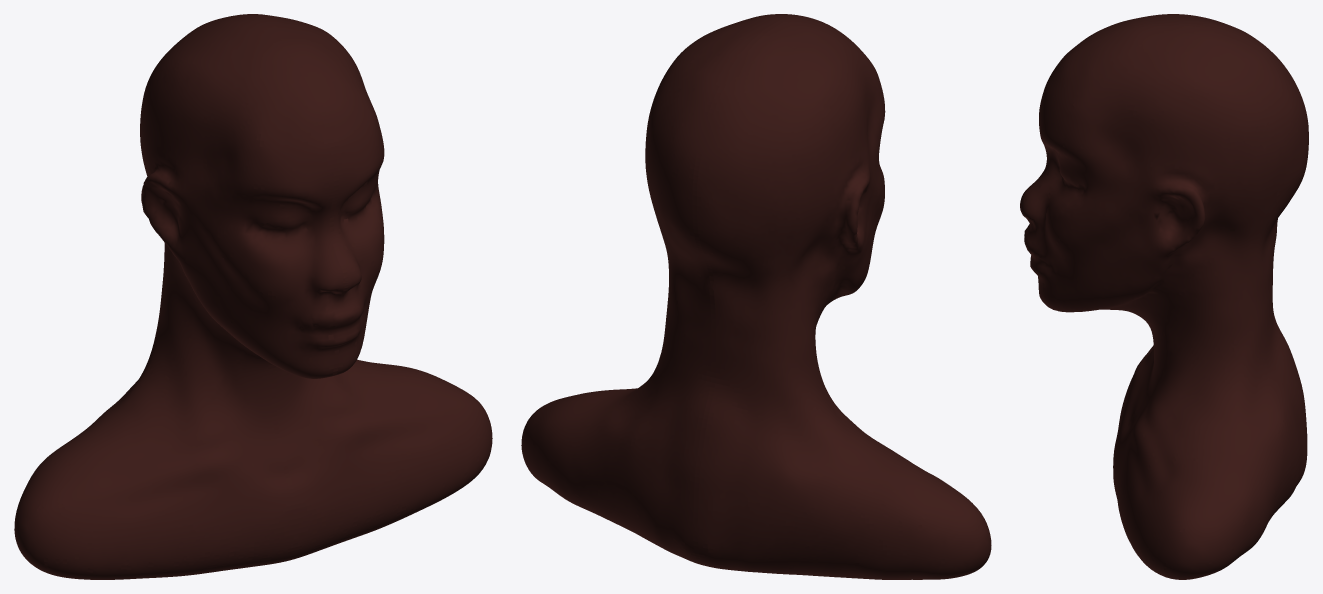
File: custombust.glb
3 renders of one model, left to right at view 1: azimuth 30°, elevation 25°; view 2: azimuth 150°, elevation 25°; view 3: azimuth 270°, elevation 25°, orthographic. The views are drawn at different scales.
Parts seen in each view (by area): view 1: Sphere.003; view 2: Sphere.003; view 3: Sphere.003.
Part boxes in pixels (x1,y1,x2,y2): Sphere.003: [14, 14, 492, 579]; Sphere.003: [521, 14, 991, 579]; Sphere.003: [1020, 14, 1308, 579].
Bounding box in the file's own units: 6.59 × 6.99 × 3.81.
